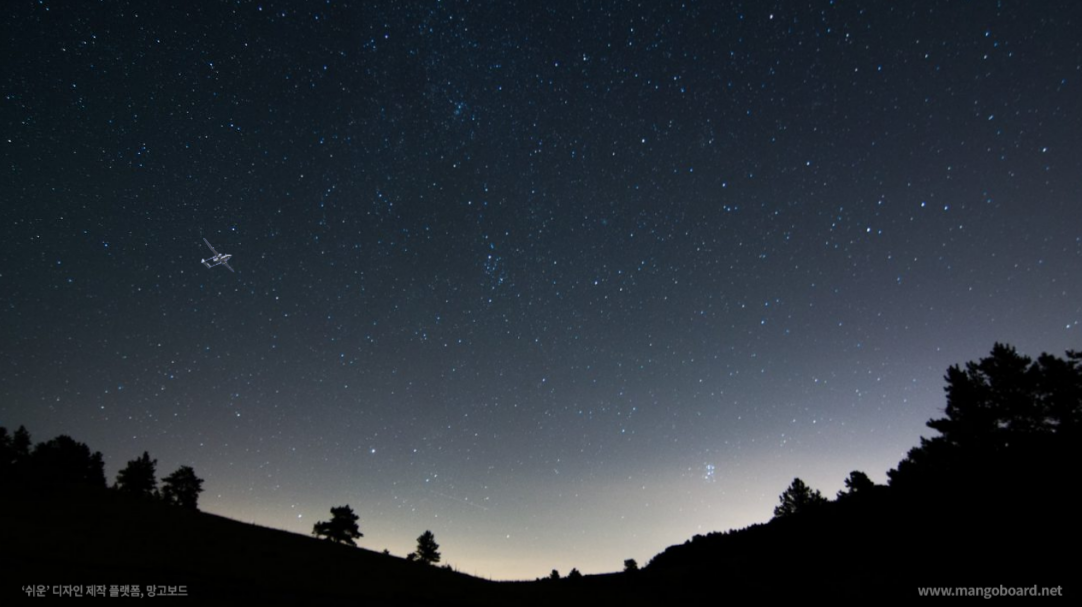military drone: (200, 237, 234, 272)
